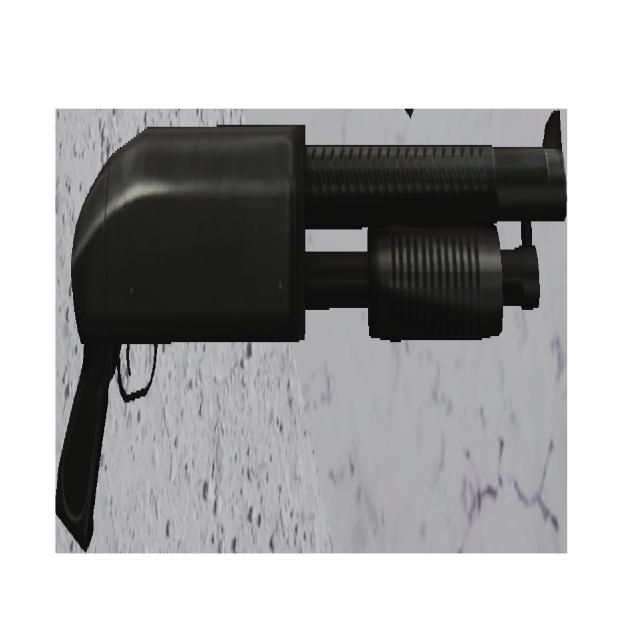Weapon: (56, 111, 565, 549)
